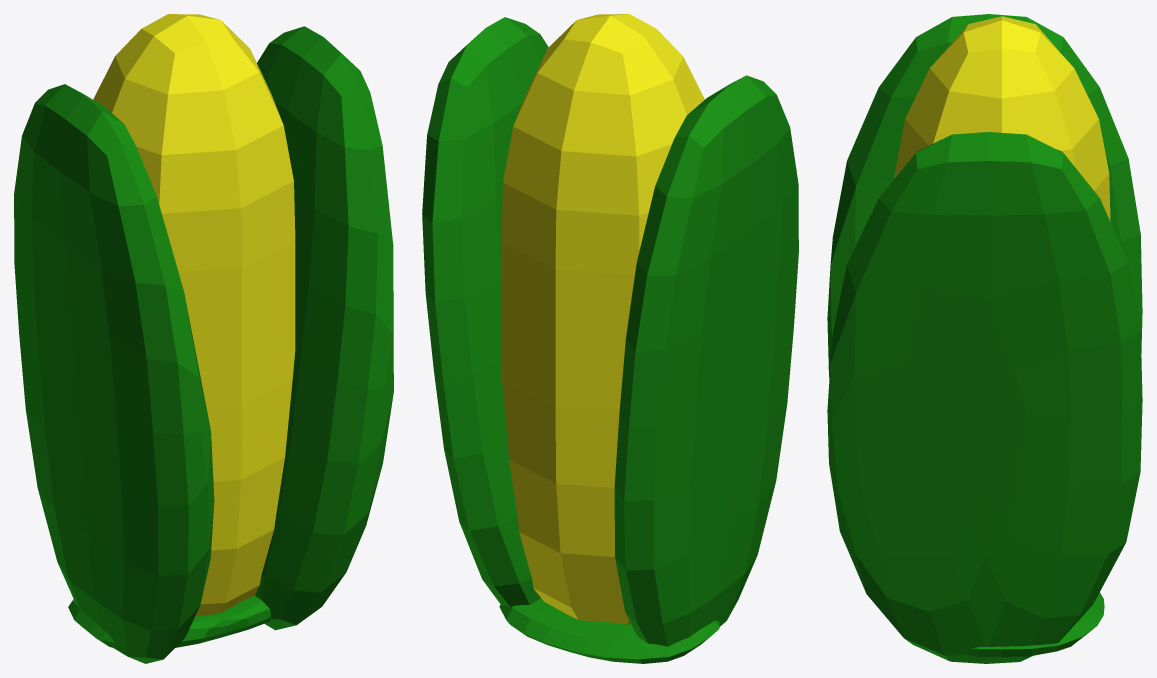
The model's file is c_fruit.fbx.
The picture shows the model from 3 angles, left to right: view 1: azimuth 30°, elevation 25°; view 2: azimuth 150°, elevation 25°; view 3: azimuth 270°, elevation 25°; orthographic projection.
Parts seen in each view (by area): view 1: Cube.002, Cube, Cube.001, Corn head; view 2: Cube.002, Cube, Cube.001, Corn head; view 3: Cube.001, Cube, Cube.002, Corn head.
Boxes of the visible parts, box(x1,y1,x2,y2) form: Cube.002: box(14, 84, 214, 663); Cube: box(93, 14, 295, 616); Cube.001: box(255, 26, 393, 630); Corn head: box(68, 595, 270, 647); Cube.002: box(614, 75, 798, 646); Cube: box(501, 14, 704, 624); Cube.001: box(422, 17, 548, 606); Corn head: box(499, 598, 719, 663); Cube.001: box(827, 132, 1142, 663); Cube: box(894, 16, 1110, 221); Cube.002: box(827, 14, 1142, 378); Corn head: box(964, 592, 1104, 657).
Bounding box in the file's own units: 114 × 238 × 110.
